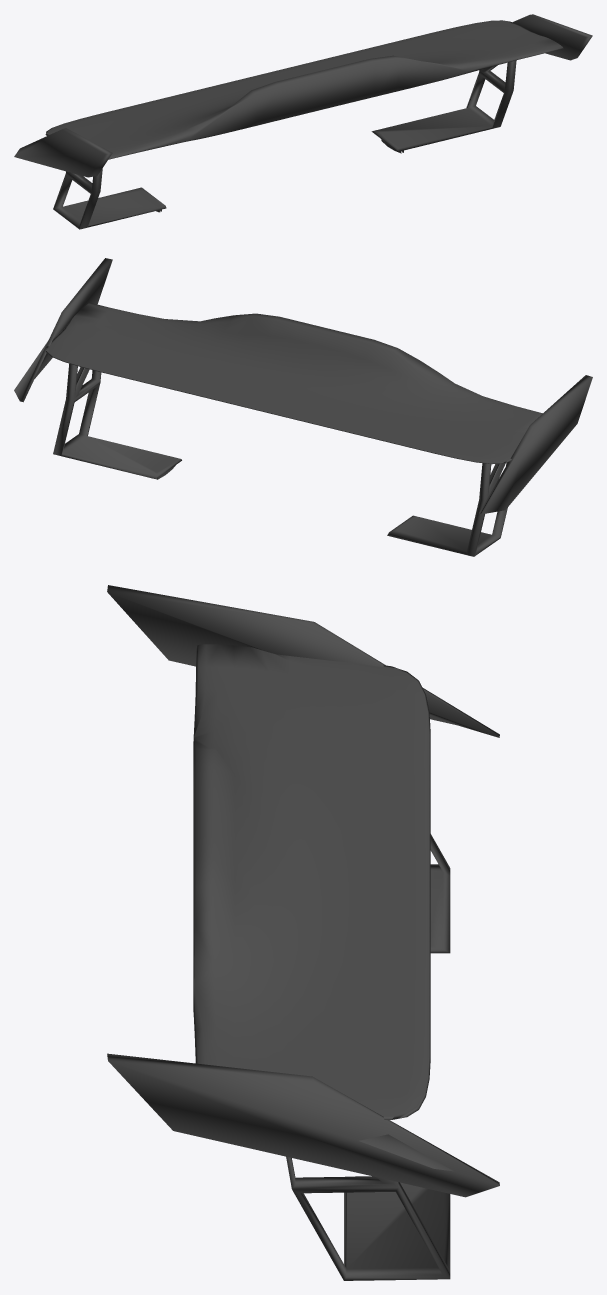
File: spoiler2.glb
The picture shows the model from 3 angles, top to bottom: view 1: azimuth 30°, elevation 25°; view 2: azimuth 150°, elevation 25°; view 3: azimuth 270°, elevation 25°; orthographic projection. The views are drawn at different scales.
Parts seen in each view (by area): view 1: Spoiler; view 2: Spoiler; view 3: Spoiler.
Part boxes in pixels (x1,y1,x2,y2): Spoiler: (14, 14, 592, 229); Spoiler: (14, 258, 592, 556); Spoiler: (107, 585, 499, 1280).
Size of the model in its own units: 1.5 by 0.3977 by 0.5175.
Materials: 1 (1 with a texture image).
